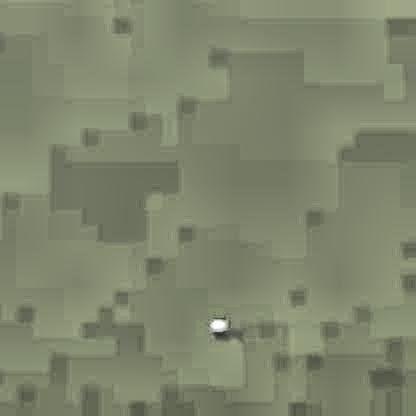golfball: (208, 315, 226, 334)
